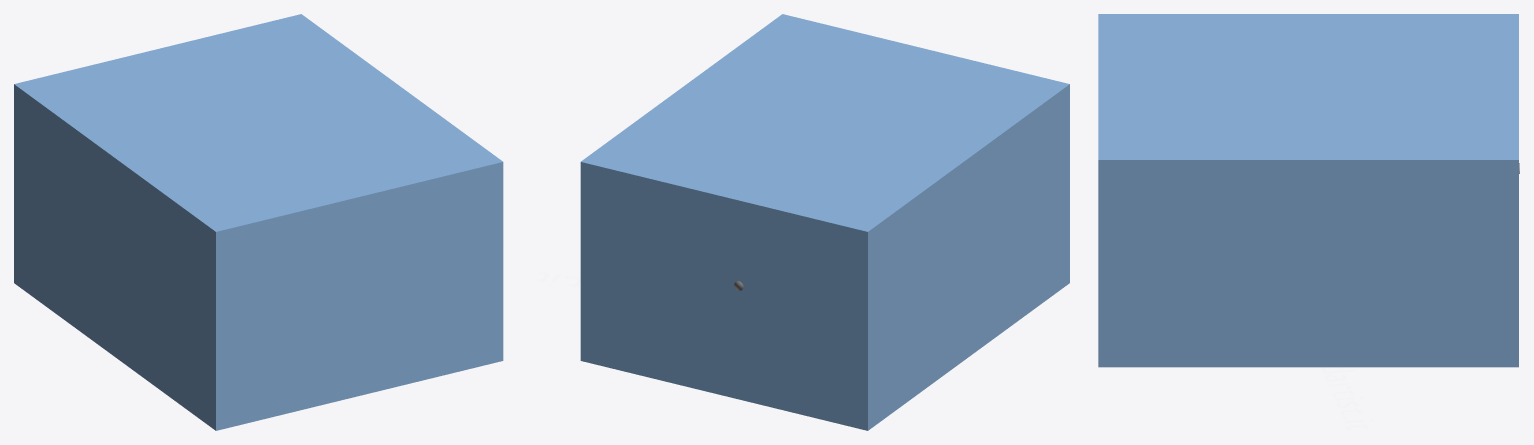
File: level3_bathroom.glb
3 views of the same model, side by side, from view 1: azimuth 30°, elevation 25°; view 2: azimuth 150°, elevation 25°; view 3: azimuth 270°, elevation 25° (orthographic). The views are drawn at different scales.
Visible parts, largest first — view 1: MURI; view 2: MURI; view 3: MURI.
Boxes of the visible parts, x1,y1,x2,y2 form: MURI: [14, 14, 503, 430]; MURI: [580, 14, 1069, 430]; MURI: [1098, 14, 1518, 367].
Bounding box in the file's own units: 10.44 × 4.92 × 8.92.
